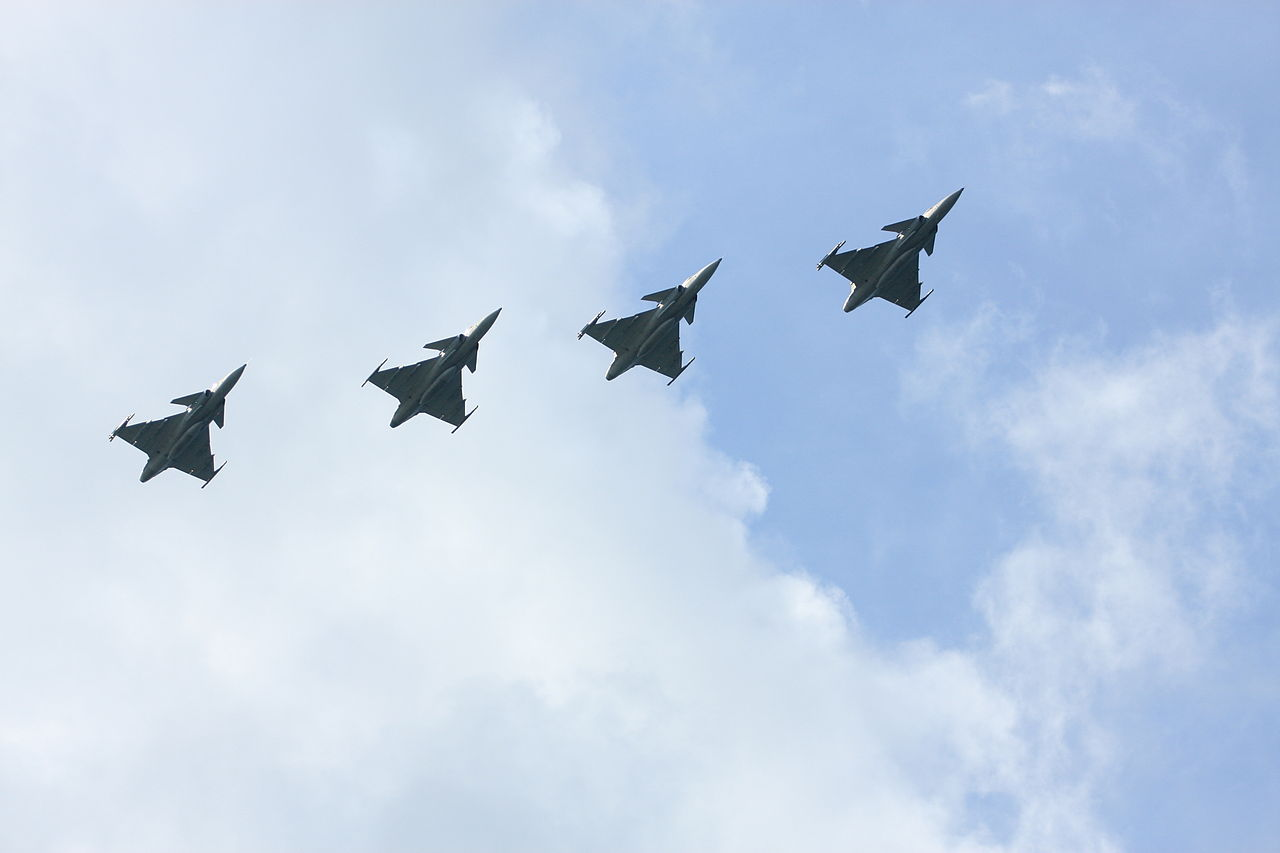JAS39: (815, 187, 964, 319), (577, 257, 723, 386), (360, 307, 502, 434), (108, 363, 247, 489)
